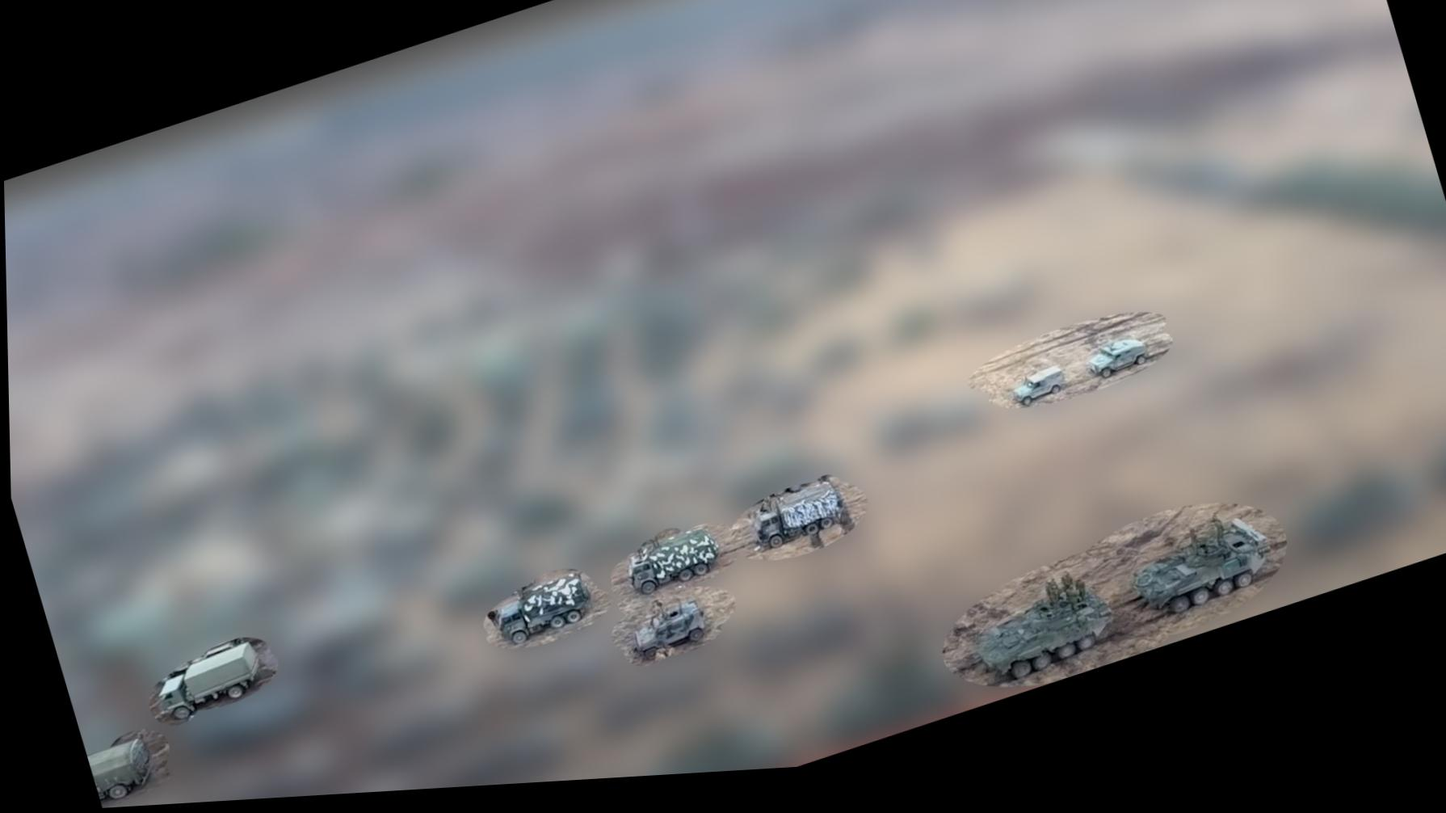armored_car: (959, 571, 1123, 697), (1121, 510, 1281, 629), (622, 600, 714, 670), (1080, 331, 1154, 387), (1000, 356, 1070, 414)
truck: (141, 630, 274, 728), (480, 557, 606, 657), (740, 471, 853, 560), (613, 517, 723, 604), (85, 734, 160, 807)
